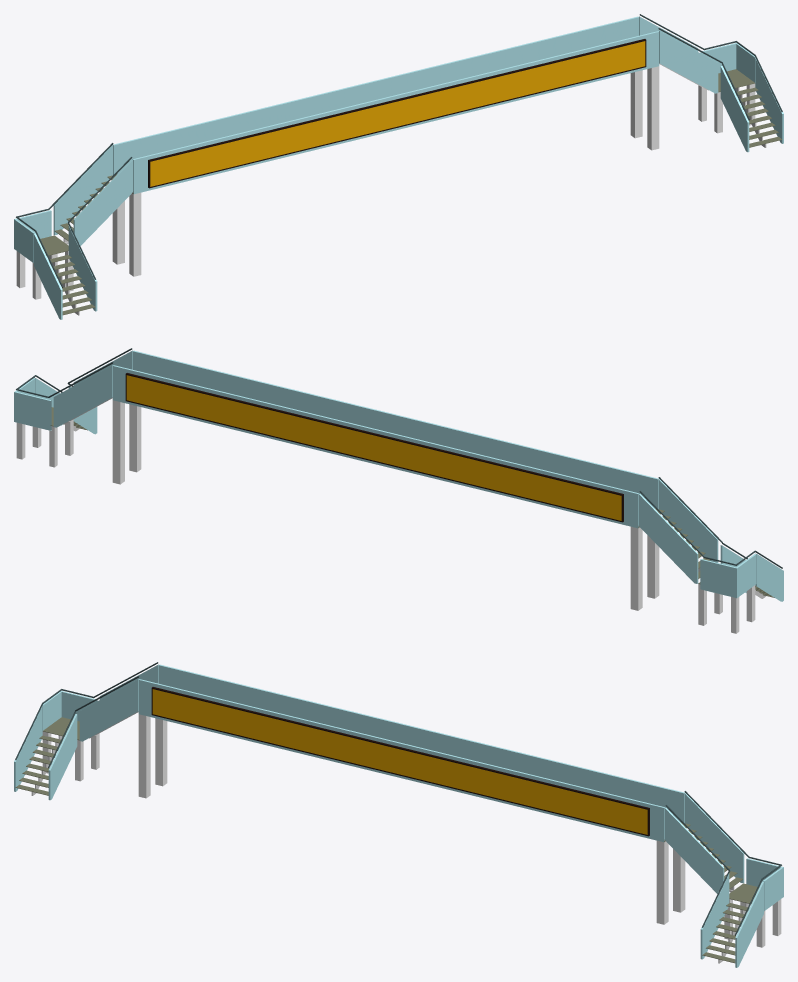
Rendered from Race_Bridge_3_1.fbx.
3 renders of one model, top to bottom at view 1: azimuth 30°, elevation 25°; view 2: azimuth 150°, elevation 25°; view 3: azimuth 330°, elevation 25°, orthographic.
Parts seen in each view (by area): view 1: Race_Bridge_3_1; view 2: Race_Bridge_3_1; view 3: Race_Bridge_3_1.
Boxes of the visible parts, bbox=[...] form: Race_Bridge_3_1: bbox=[14, 14, 783, 319]; Race_Bridge_3_1: bbox=[14, 348, 783, 633]; Race_Bridge_3_1: bbox=[14, 662, 783, 967].
Bounding box in the file's own units: 3302 × 522 × 383.
